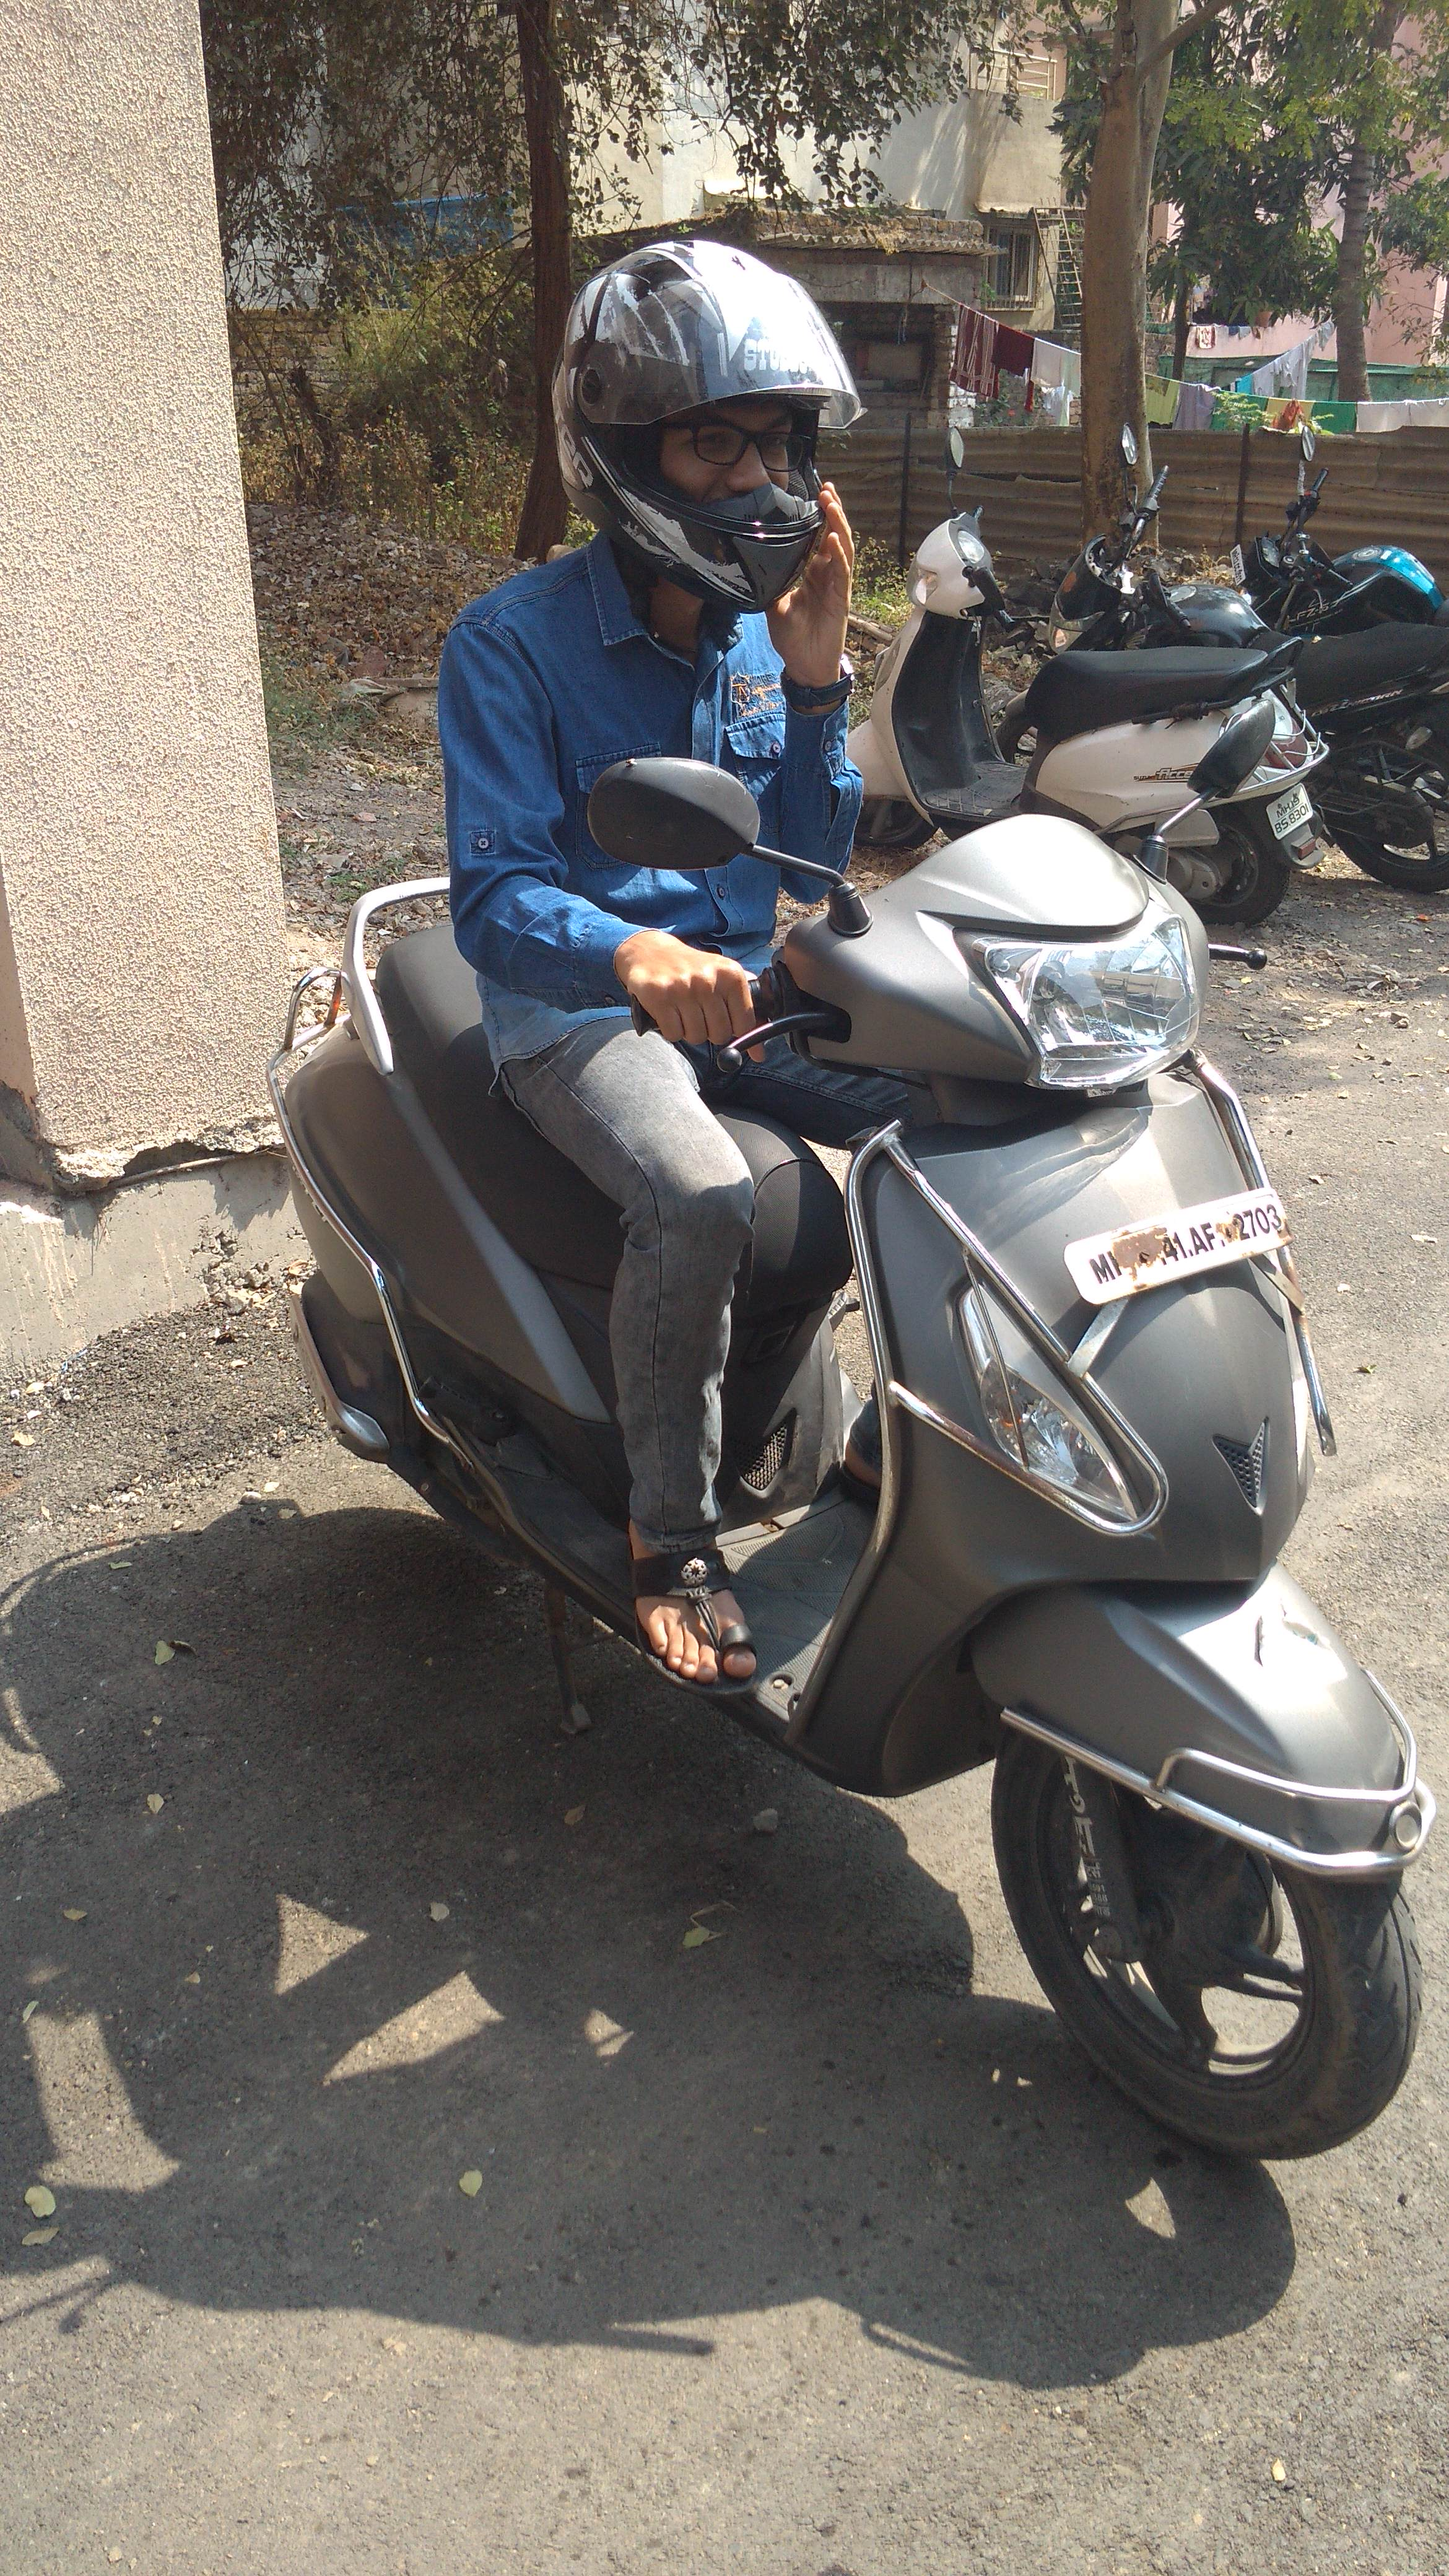helmet: (419, 157, 948, 1093)
